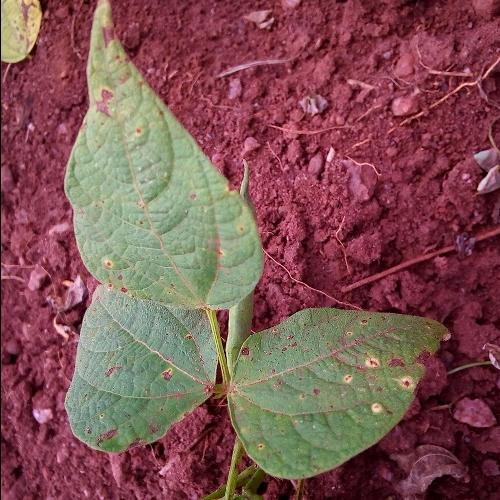hawar: (245, 310, 448, 406), (86, 22, 132, 138), (91, 352, 180, 392), (213, 174, 250, 268), (123, 420, 167, 452), (92, 417, 119, 449), (108, 278, 136, 299)
mozaik: (89, 166, 184, 262)
